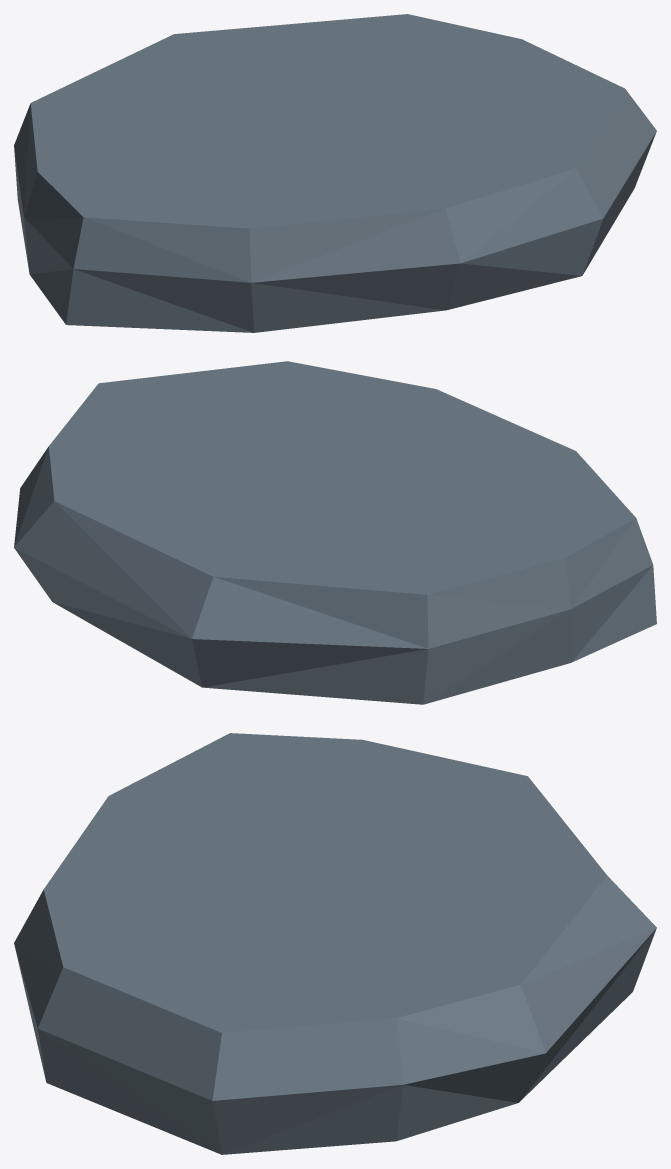
Rendered from VL_CoolStone.fbx.
3 views of the same model, one above another, from view 1: azimuth 30°, elevation 25°; view 2: azimuth 150°, elevation 25°; view 3: azimuth 270°, elevation 25° (orthographic). The views are drawn at different scales.
Visible parts, largest first — view 1: VL_CoolStone_Stone; view 2: VL_CoolStone_Stone; view 3: VL_CoolStone_Stone.
Part boxes in pixels (x1,y1,x2,y2): VL_CoolStone_Stone: (14,14,656,332); VL_CoolStone_Stone: (14,361,656,704); VL_CoolStone_Stone: (14,733,656,1154).
Size of the model in its own units: 6 by 1 by 5.
